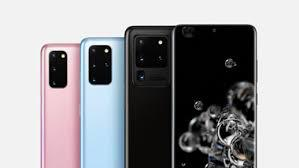Smartphone: (175, 26, 256, 168), (128, 25, 171, 168), (84, 37, 126, 168), (43, 41, 82, 168)
